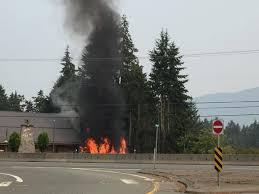fire: (78, 132, 128, 154)
